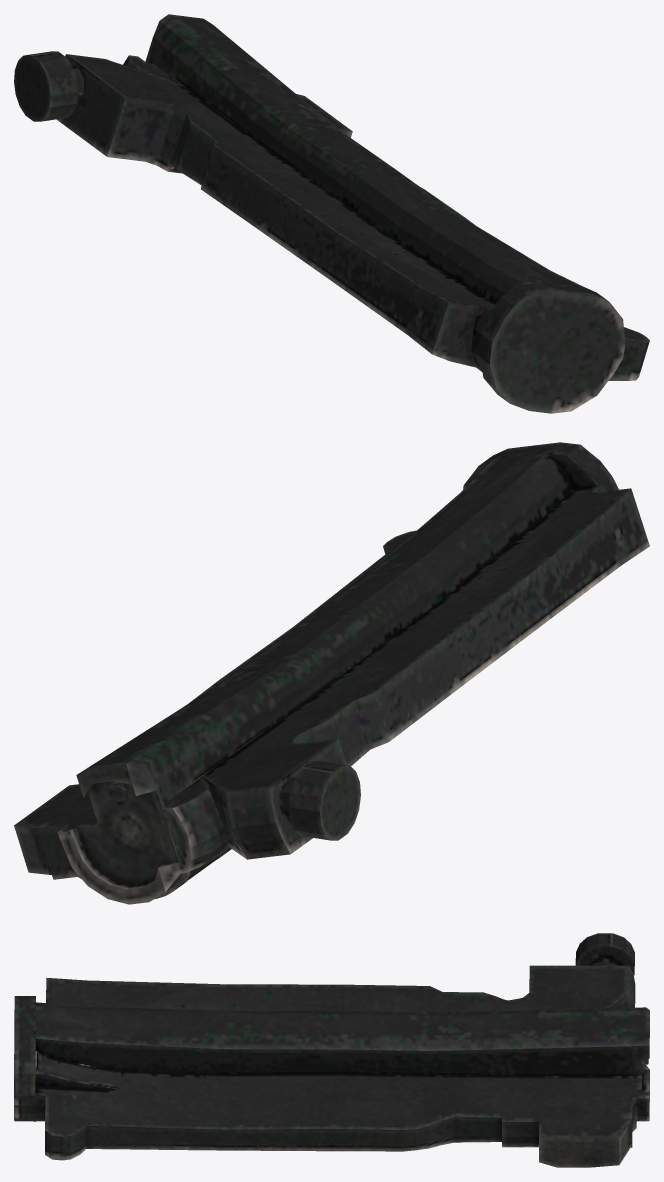
The picture shows the model from 3 angles, top to bottom: view 1: azimuth 30°, elevation 25°; view 2: azimuth 150°, elevation 25°; view 3: azimuth 270°, elevation 25°; orthographic projection. The views are drawn at different scales.
Parts seen in each view (by area): view 1: TW_5aafa857e5b5b00018480968_PZ_Import; view 2: TW_5aafa857e5b5b00018480968_PZ_Import; view 3: TW_5aafa857e5b5b00018480968_PZ_Import.
Part boxes in pixels (<box>): TW_5aafa857e5b5b00018480968_PZ_Import: <box>14,14,649,413</box>; TW_5aafa857e5b5b00018480968_PZ_Import: <box>14,442,649,904</box>; TW_5aafa857e5b5b00018480968_PZ_Import: <box>14,933,649,1167</box>.
Size of the model in its own units: 0.0215 by 0.0494 by 0.011.
Materials: 1 (1 with a texture image).
